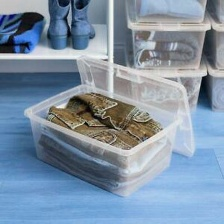plastic_box: (17, 48, 202, 202), (119, 31, 211, 118), (121, 0, 214, 73), (117, 0, 214, 27)
